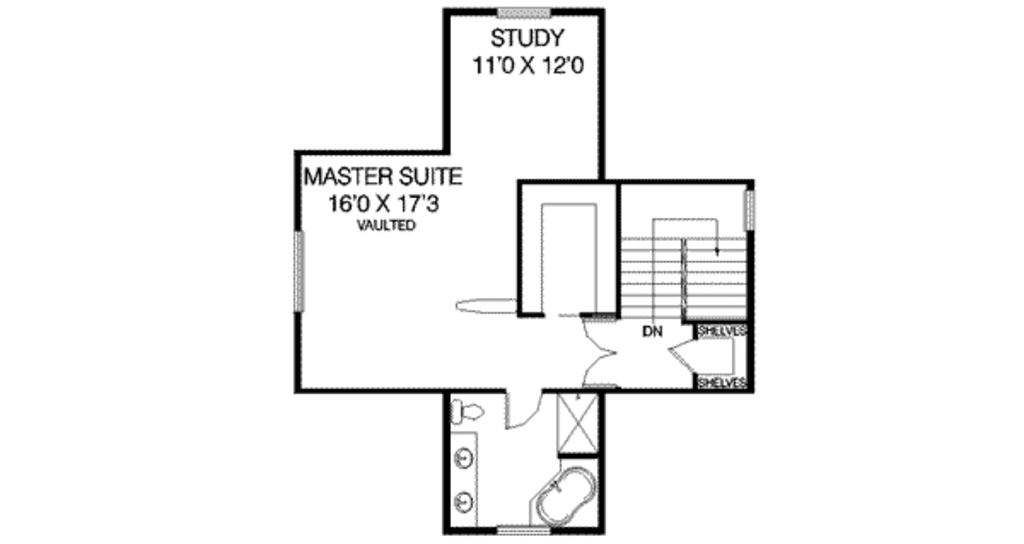door: (584, 316, 628, 386), (506, 391, 544, 431)
large_sink: (447, 396, 486, 432)
small_sink: (450, 489, 475, 522), (449, 442, 474, 469)
stairs: (617, 208, 749, 323)
tub: (532, 456, 595, 528)
window: (293, 231, 304, 308), (495, 8, 553, 19), (501, 525, 547, 535), (744, 188, 753, 235)
